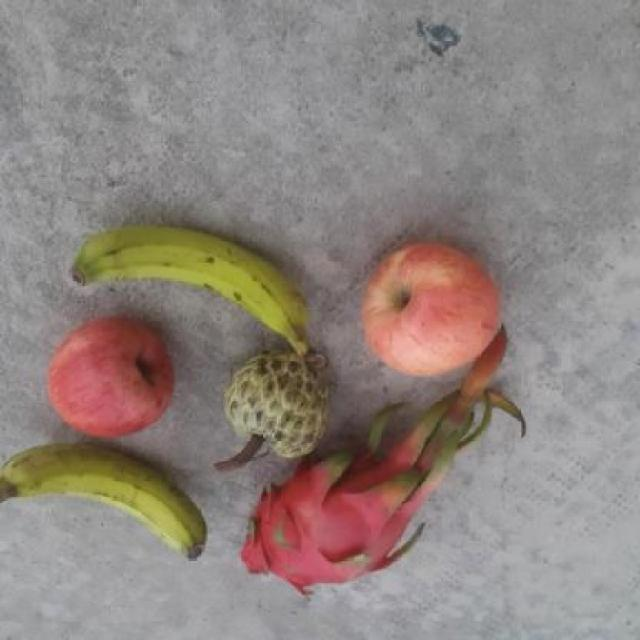apple: (362, 235, 510, 378), (46, 312, 174, 442)
banana: (71, 223, 335, 369), (0, 437, 215, 571)
dragon fruit: (248, 454, 410, 598)
sugar apple: (226, 348, 328, 460)
